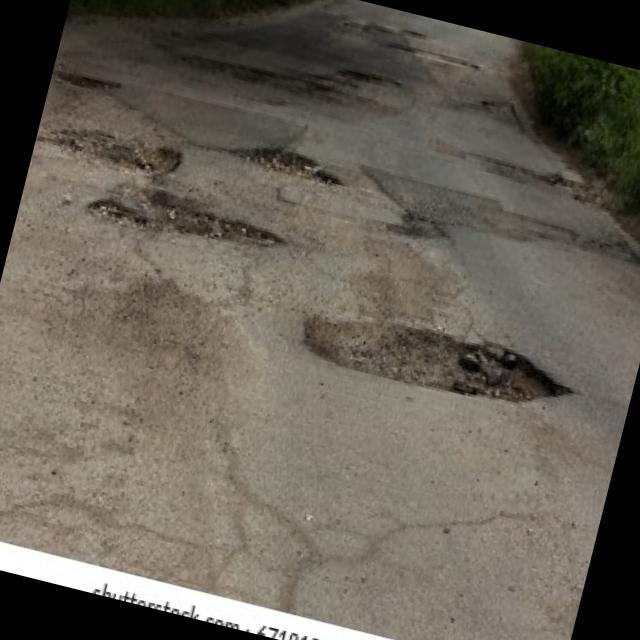Pothole: (295, 298, 584, 422), (148, 194, 291, 262), (47, 116, 186, 183), (229, 138, 346, 190), (86, 193, 150, 240), (389, 42, 479, 71), (537, 165, 595, 202), (389, 209, 447, 246), (57, 68, 120, 95), (480, 94, 524, 126), (344, 66, 398, 90), (404, 27, 426, 37)
